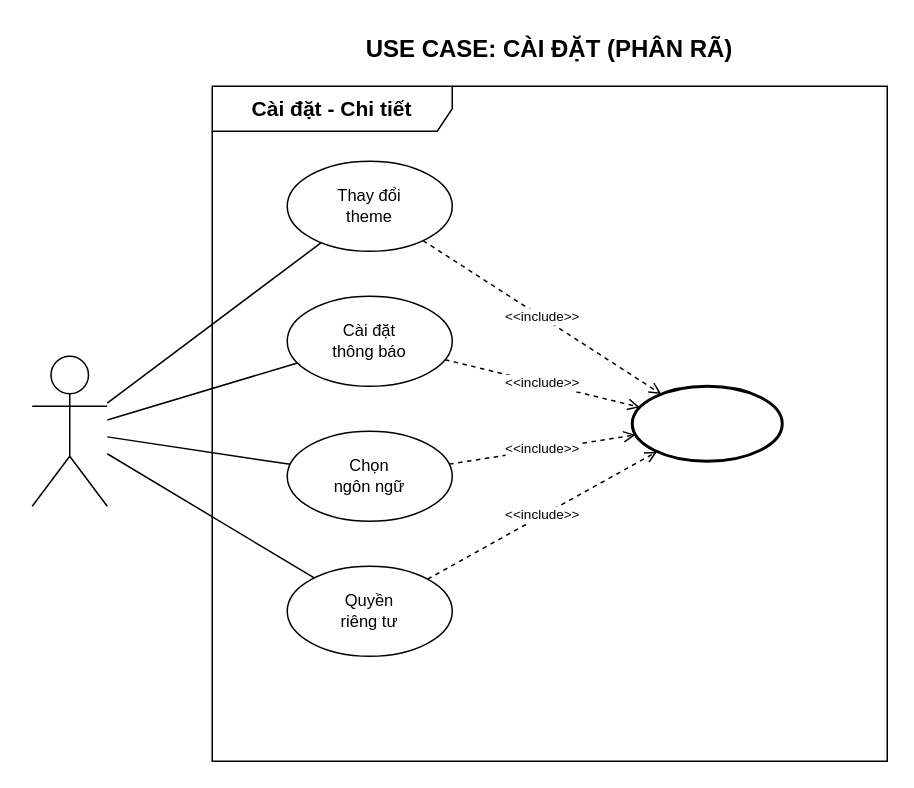
Some shapes in this 914 by 788 pixel diagram are drawn without their labels. Here are the shapes that lost their labels. From the top down, the centre of each, then its label:
At (69,430): "Registered User".
At (706,423): "Đăng nhập".
